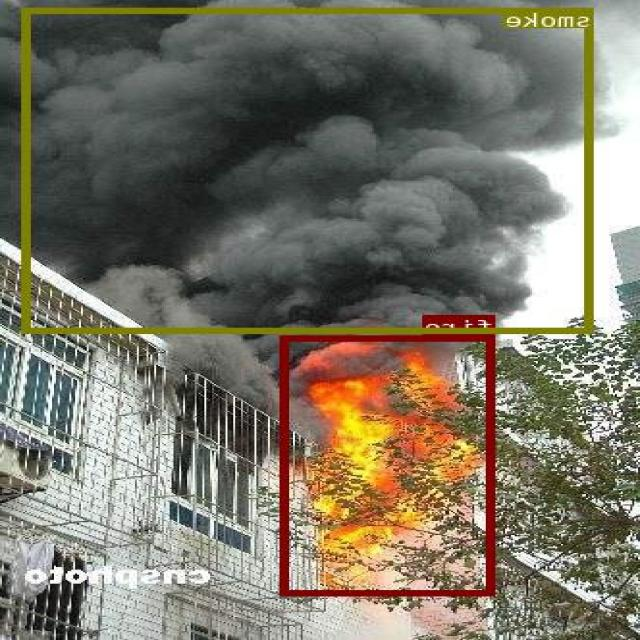fire: (283, 335, 497, 594)
smoke: (24, 7, 594, 332)
